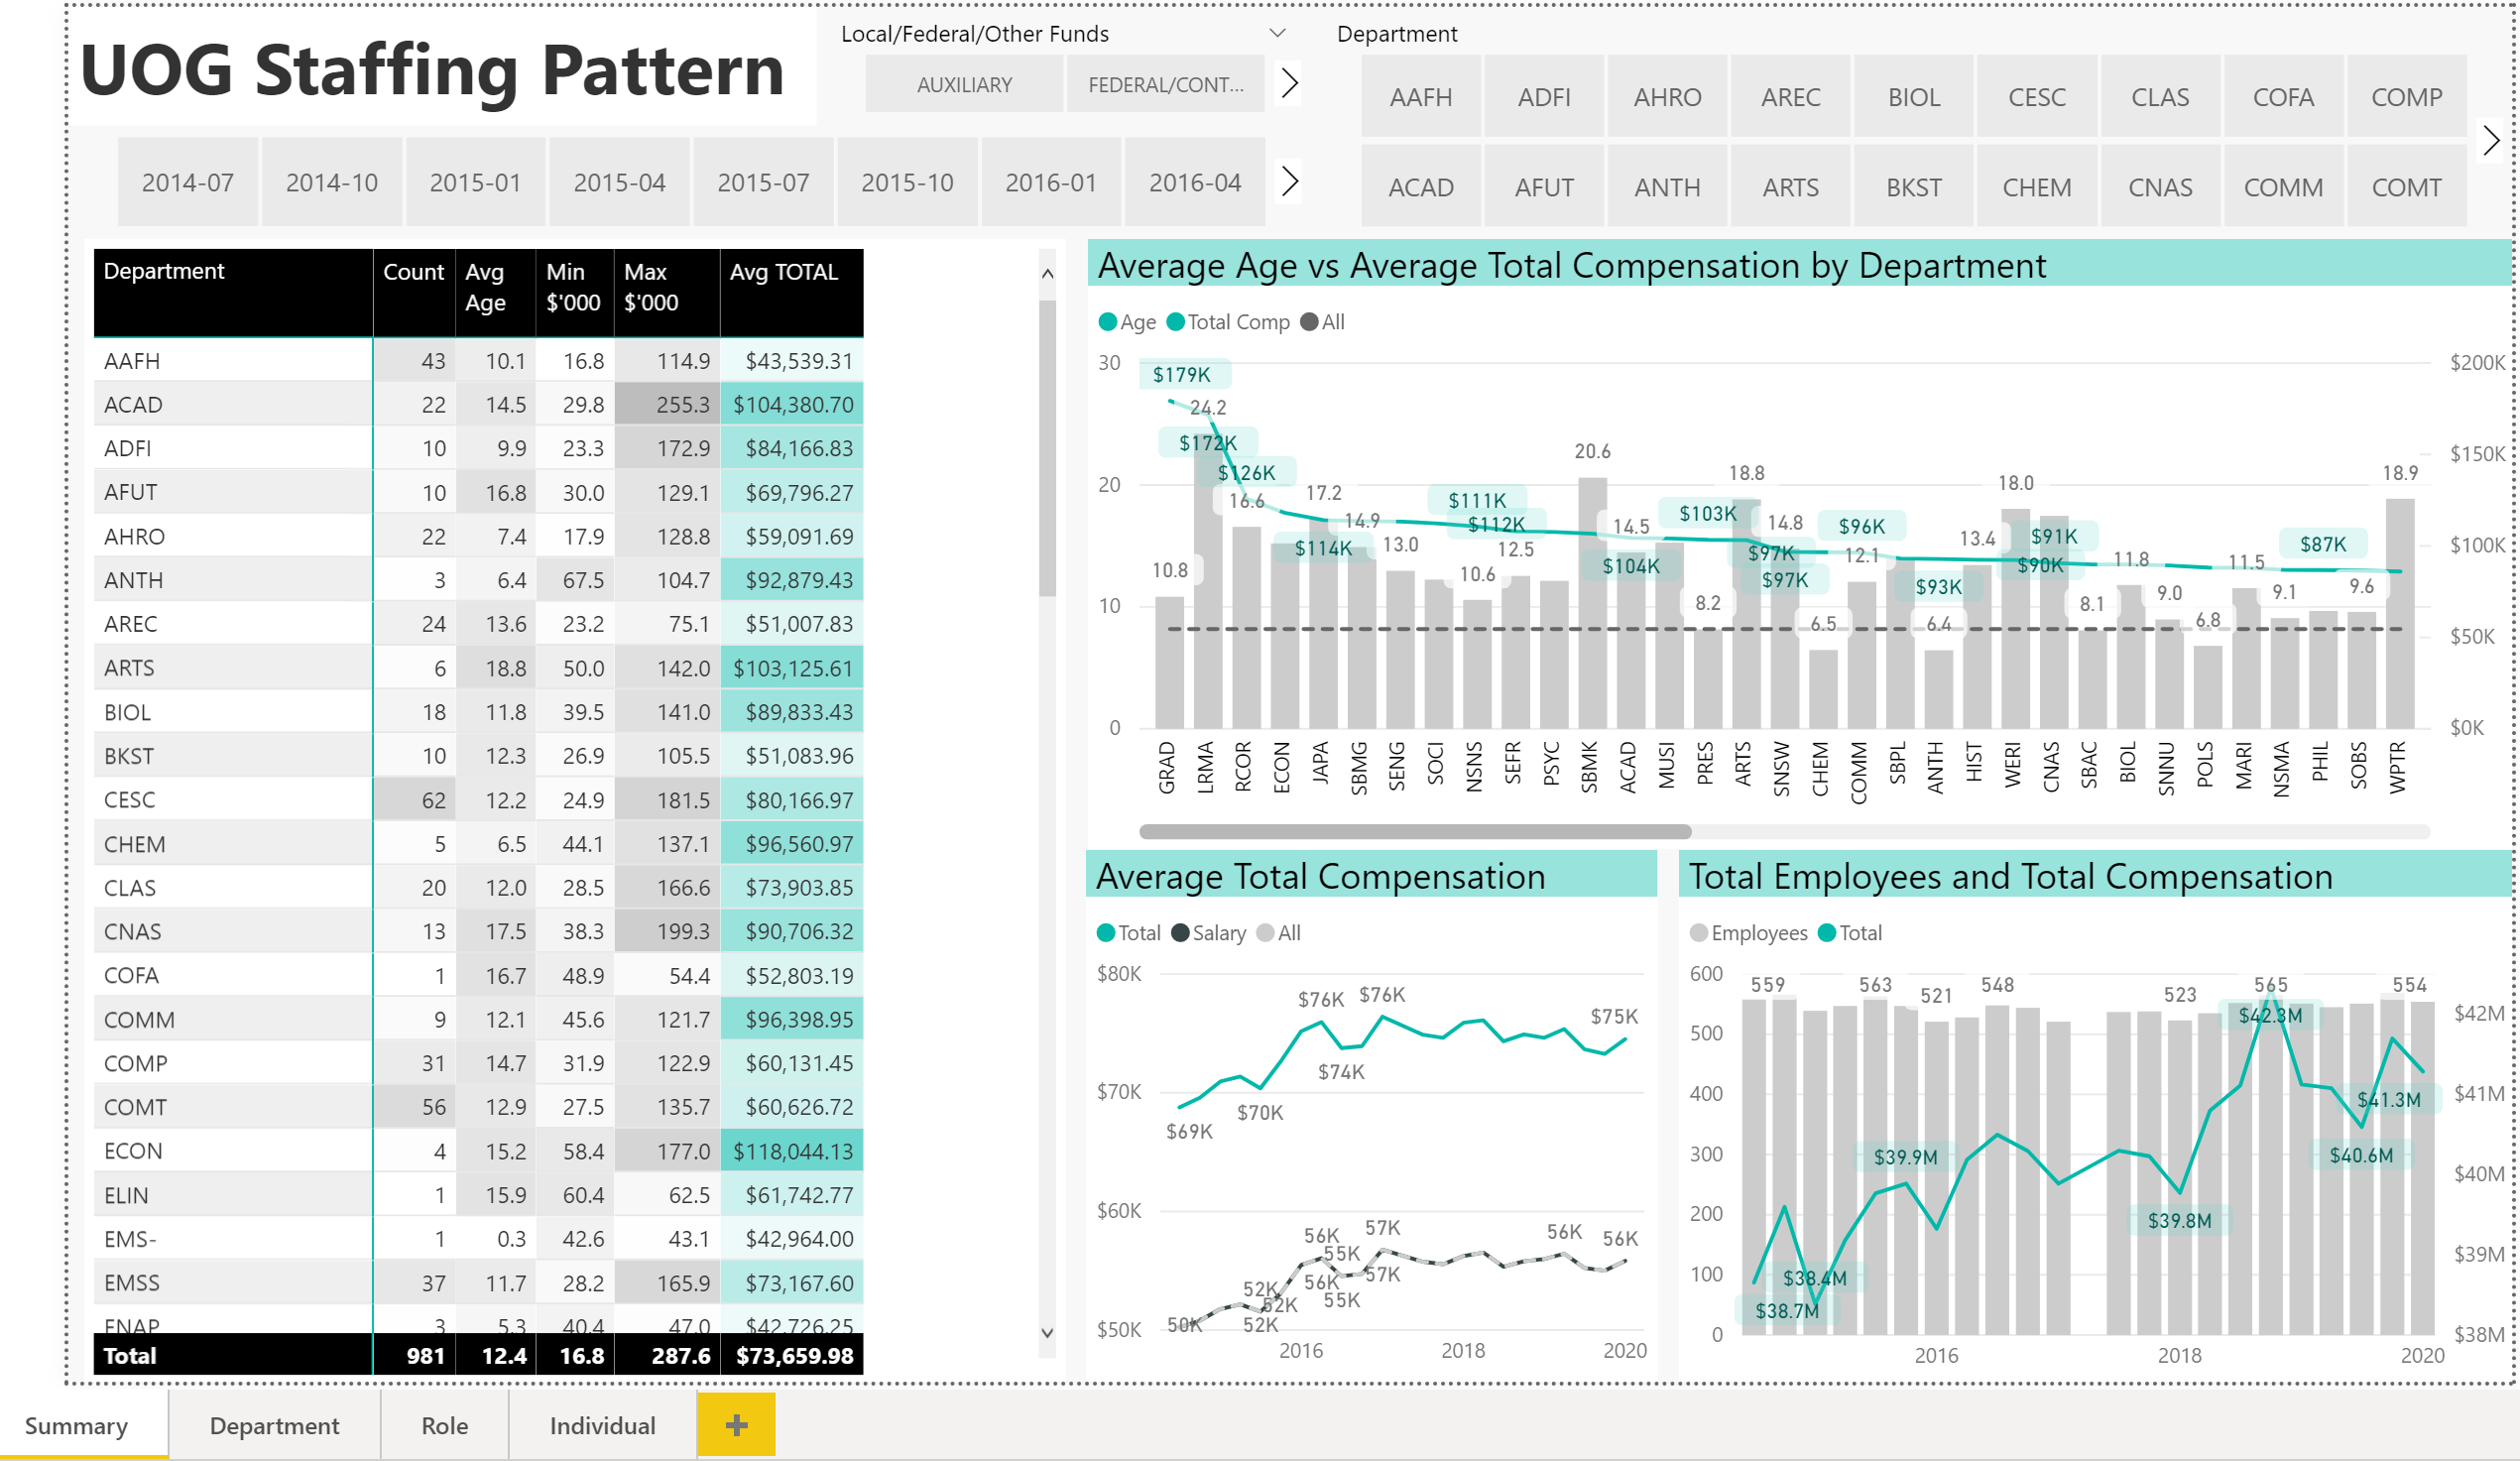

This screenshot's page, from the dashboard's own definition file:
{"tool":"powerbi","page":{"name":"Summary","canvas":[1280,720],"ordinal":0},"visuals":[{"type":"lineStackedColumnComboChart","title":"Total Employees and Total Compensation","fields":{"Y2":["Sum(pdf.TOTAL)"],"Y":["Count(pdf.Name)"],"Category":["pdf.Upload Date"]},"box":[843.5,441.9,437.9,282.1],"z":0},{"type":"pivotTable","fields":{"Rows":["pdf.Department","pdf.Title","pdf.Name"],"Values":["Count(pdf.Name)","Avg(pdf.TotalAge)","Min(pdf.Total_Thousands)","Max(pdf.Total_Thousands)1","Avg(pdf.TOTAL)1"]},"box":[8.1,122.1,513.9,599.9],"z":1000},{"type":"slicer","fields":{"Values":["pdf.Department"]},"box":[651,0,629,122.1],"z":2000},{"type":"lineClusteredColumnComboChart","title":"Average Age vs Average Total Compensation by Department","fields":{"Category":["pdf.Department","pdf.Title","pdf.Name"],"Y2":["Avg(pdf.TOTAL)","pdf.Total_Avg_All"],"Y":["Avg(pdf.TotalAge)"]},"box":[533.6,122.1,748.7,319.7],"z":3000},{"type":"slicer","fields":{"Values":["pdf.Local/Federal/Other Funds"]},"box":[392.2,0,259.2,61.8],"z":4000},{"type":"textbox","box":[0,0,392.2,61.8],"z":5000},{"type":"lineChart","title":"Average Total Compensation","fields":{"Category":["pdf.Upload Date"],"Y":["Avg(pdf.TOTAL)","Avg(pdf.SUBTOTAL)","pdf.Total_Avg_All"]},"box":[533.2,441.9,299.5,279.4],"z":6000},{"type":"slicer","fields":{"Values":["pdf.Upload Date"]},"box":[0,61.6,651,60.5],"z":7000}]}

Visuals, with their boxes on the page's 1280x720 design canvas (x1, y1, x2, y2). These are canvas units, not pixel positions in the 2520x1461 screenshot, which may show the page scaled, cropped or inside an application window:
"Total Employees and Total Compensation" lineStackedColumnComboChart: box(844, 442, 1281, 724)
pivotTable - pdf.Department x pdf.Title: box(8, 122, 522, 722)
slicer - pdf.Department: box(651, 0, 1280, 122)
"Average Age vs Average Total Compensation by Department" lineClusteredColumnComboChart: box(534, 122, 1282, 442)
slicer - pdf.Local/Federal/Other Funds: box(392, 0, 651, 62)
textbox: box(0, 0, 392, 62)
"Average Total Compensation" lineChart: box(533, 442, 833, 721)
slicer - pdf.Upload Date: box(0, 62, 651, 122)
